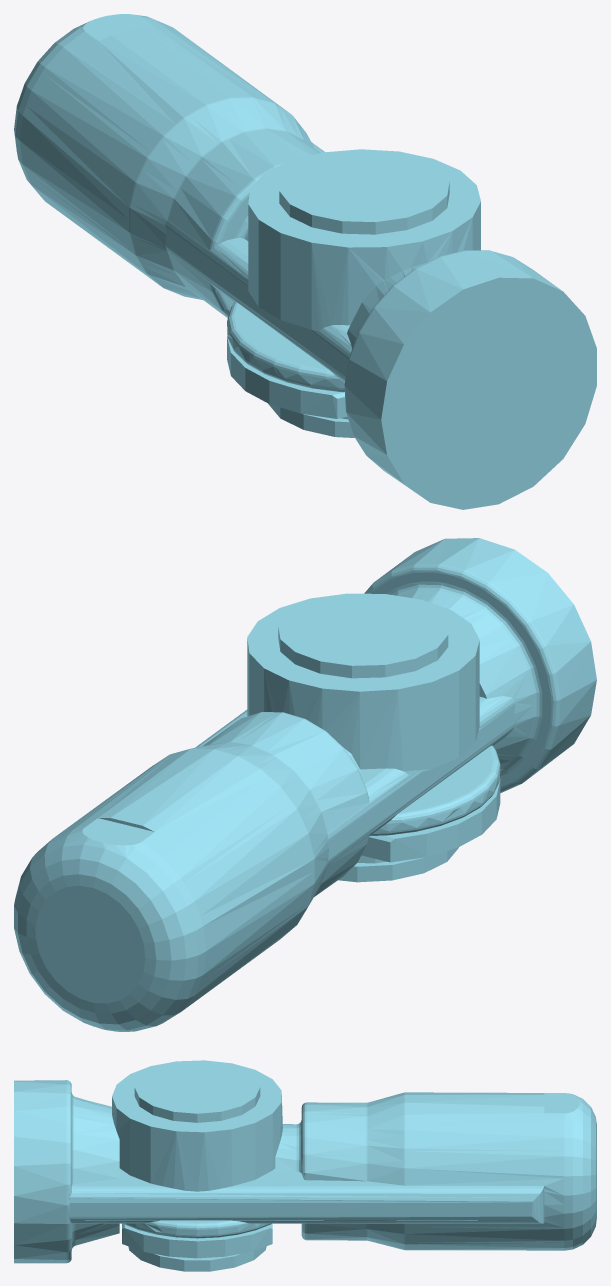
3 renders of one model, top to bottom at view 1: azimuth 30°, elevation 25°; view 2: azimuth 150°, elevation 25°; view 3: azimuth 270°, elevation 25°, orthographic. The views are drawn at different scales.
Visible parts, largest first — view 1: link6; view 2: link6; view 3: link6.
Boxes of the visible parts, x1,y1,x2,y2 form: link6: (14,14,596,509); link6: (14,538,596,1031); link6: (14,1060,596,1271).
Bounding box in the file's own units: 0.08 × 0.0735 × 0.232.
